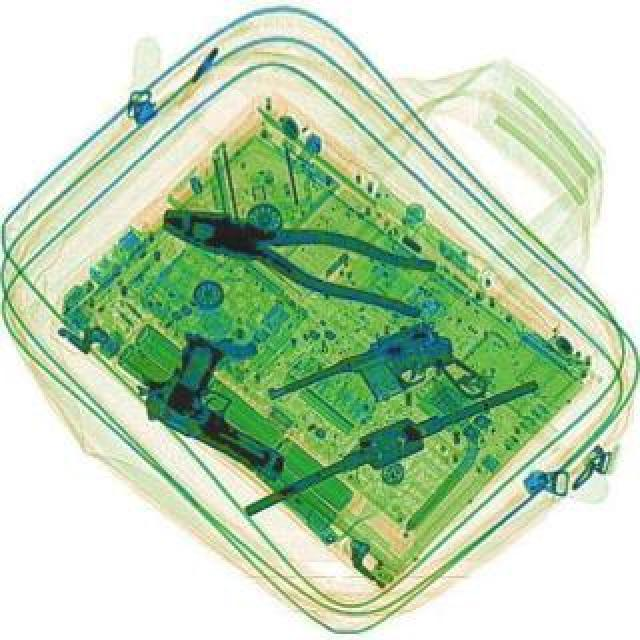gun: (262, 306, 490, 474), (122, 320, 326, 484)
wrench: (152, 188, 438, 318)
